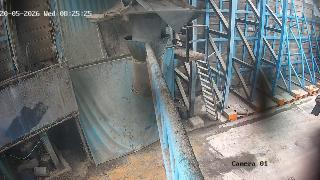cement_mixer_truck: (309, 91, 320, 124)
swing_chute: (124, 36, 169, 99)
